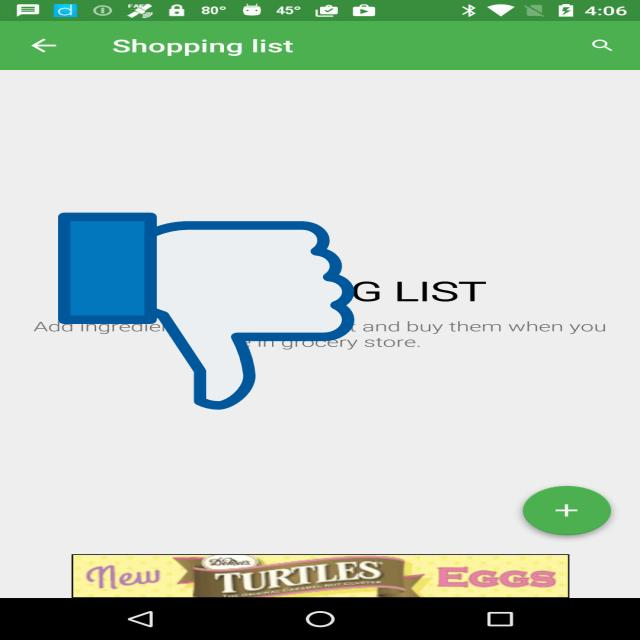obstruction: (58, 208, 354, 414)
